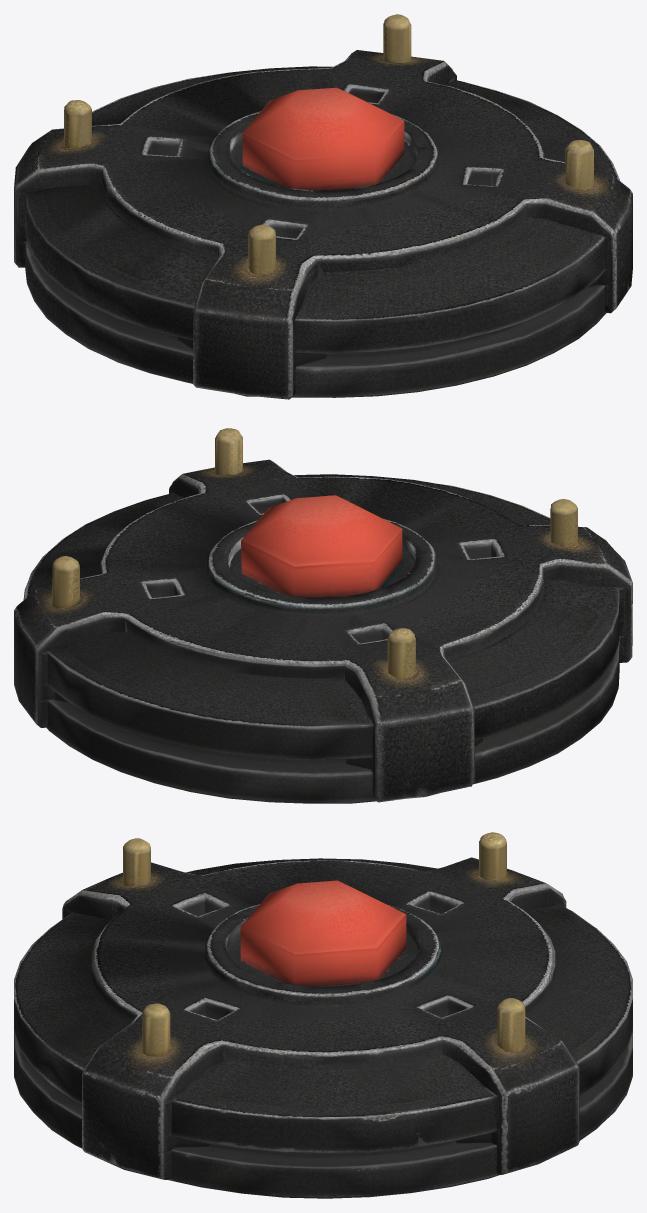
File: tripo_convert_589d1040-9daf-4863-9aa5-5b0993913d88.fbx
3 views of the same model, one above another, from view 1: azimuth 30°, elevation 25°; view 2: azimuth 150°, elevation 25°; view 3: azimuth 270°, elevation 25° (orthographic). The views are drawn at different scales.
Visible parts, largest first — view 1: tripo_node_589d1040; view 2: tripo_node_589d1040; view 3: tripo_node_589d1040.
Part boxes in pixels (<box>): tripo_node_589d1040: <box>14,14,632,399</box>; tripo_node_589d1040: <box>14,428,632,803</box>; tripo_node_589d1040: <box>14,832,632,1198</box>.
Size of the model in its own units: 0.9902 by 0.3066 by 0.998.
Materials: 1 (1 with a texture image).
